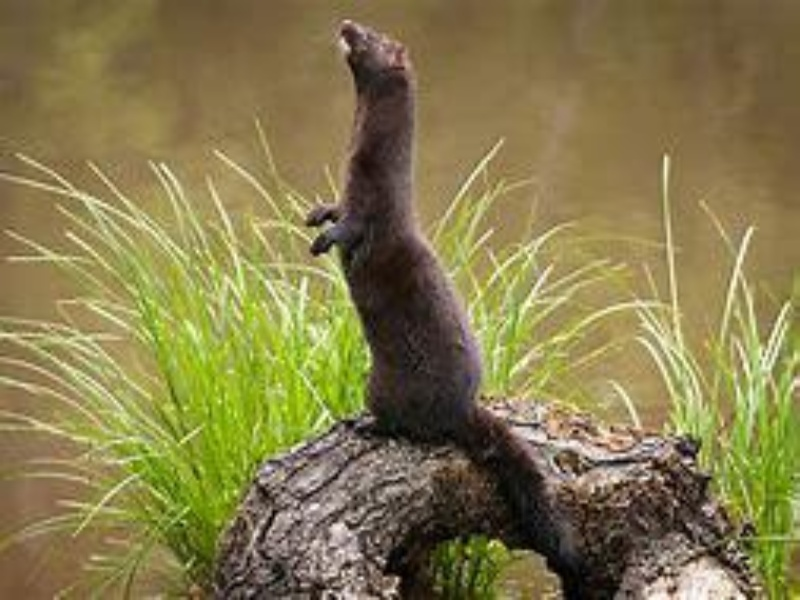minkish: (306, 11, 552, 530)
